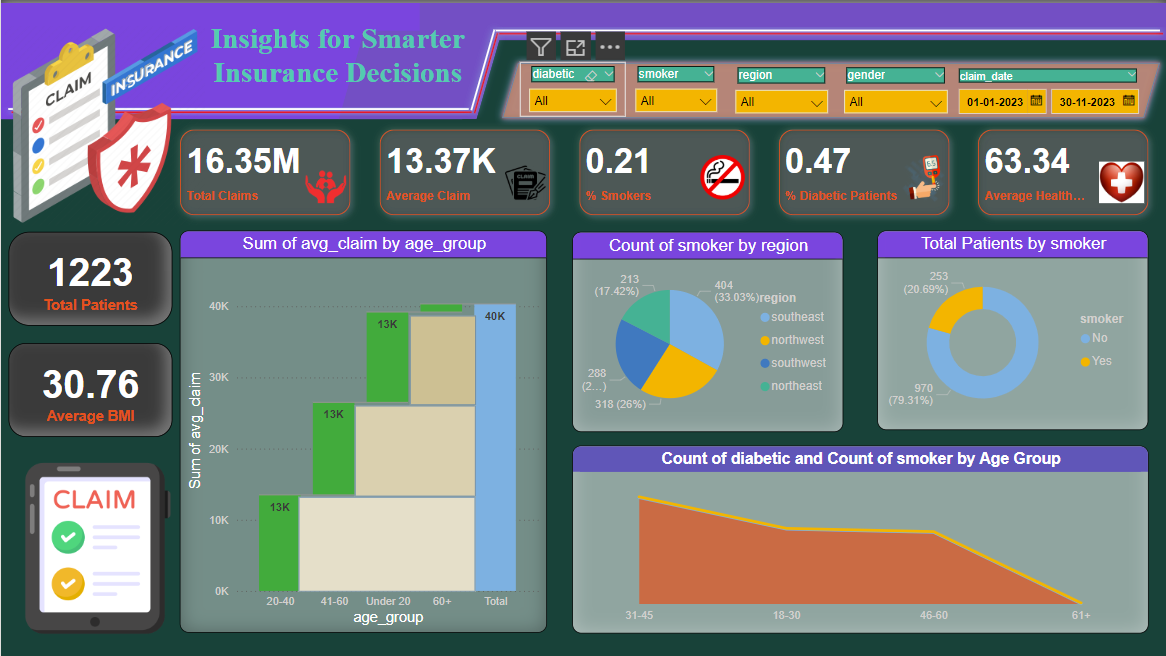

What the dashboard file says about the page in this screenshot:
{"tool":"powerbi","page":{"name":"Page 3","canvas":[1280,720],"ordinal":3},"visuals":[{"type":"cardVisual","fields":{"Data":["insurance_data.Total Claims","insurance_data.Average Claim","gender_smoker_health_summary.% Smokers","insurance_data.% Diabetic Patients","insurance_data.Average Health Risk"]},"box":[179.5,122.1,1100.5,129],"z":0},{"type":"shape","box":[542,57.6,738.3,76.8],"z":1000},{"type":"shape","box":[0,0,506.3,127.6],"z":2000},{"type":"shape","box":[459.7,0,820.6,41.2],"z":3000},{"type":"shape","box":[370.5,30.2,179.8,97.4],"z":4000},{"type":"shape","box":[0,108.4,521.4,15.1],"z":5000},{"type":"shape","box":[500.9,20.6,56.3,105.7],"z":6000},{"type":"shape","box":[534.9,20.6,745.1,19.2],"z":7000},{"type":"image","box":[0,6.9,229.2,255.2],"z":8000},{"type":"textbox","box":[179.8,15.1,380.1,93.3],"z":9000},{"type":"waterfallChart","fields":{"Y":["Sum(age_group_claims_summary.avg_claim)"],"Category":["age_group_claims_summary.age_group"]},"box":[196.2,249.7,403.4,441.9],"z":10000},{"type":"pieChart","fields":{"Category":["insurance_data.region"],"Y":["CountNonNull(insurance_data.smoker)"]},"box":[627.5,251.2,297.5,220],"z":11000},{"type":"donutChart","fields":{"Category":["smoker_analysis.smoker"],"Y":["insurance_data.Total Patients"]},"box":[961.9,249.7,297.8,219.6],"z":12000},{"type":"shape","box":[327.1,541.4,194.3,104.3],"z":13000},{"type":"shape","box":[388.6,441.4,132.9,100],"z":14000},{"type":"shape","box":[448.6,342.9,72.9,98.6],"z":15000},{"type":"card","fields":{"Values":["insurance_data.Total Patients"]},"box":[8.2,251.1,179.8,102.9],"z":16000},{"type":"card","fields":{"Values":["insurance_data.Average BMI"]},"box":[8.2,373.2,179.8,102.9],"z":17000},{"type":"stackedAreaChart","fields":{"Category":["insurance_data.Age Group"],"Y":["CountNonNull(insurance_data.diabetic)","CountNonNull(gender_smoker_health_summary.smoker)"]},"box":[627.5,486.2,632.5,206.2],"z":18000},{"type":"image","box":[0,475.7,212.7,244.3],"z":19000},{"type":"slicer","fields":{"Values":["insurance_data.diabetic"]},"box":[569.5,64.5,116.6,60.4],"z":20000},{"type":"slicer","fields":{"Values":["gender_smoker_health_summary.smoker"]},"box":[686.1,64.5,109.8,61.7],"z":21000},{"type":"slicer","fields":{"Values":["insurance_data.region"]},"box":[795.9,65.9,122.1,61.7],"z":22000},{"type":"slicer","fields":{"Values":["insurance_data.claim_date"]},"box":[1038.8,67.2,220.9,64.5],"z":23000},{"type":"slicer","fields":{"Values":["insurance_data.gender"]},"box":[915,66.2,133.8,61.2],"z":24000}]}

Visuals, with their boxes in screenshot pixels (x1, y1, x2, y2), scaled from the page's 1280x720 canvas onto the 1166x656 screenshot:
cardVisual - insurance_data.Total Claims x insurance_data.Average Claim: [164, 111, 1165, 229]
shape: [494, 52, 1165, 122]
shape: [0, 0, 461, 116]
shape: [419, 0, 1165, 38]
shape: [338, 28, 501, 116]
shape: [0, 99, 475, 113]
shape: [456, 19, 508, 115]
shape: [487, 19, 1165, 36]
image: [0, 6, 209, 239]
textbox: [164, 14, 510, 99]
waterfallChart - Sum(age_group_claims_summary.avg_claim) x age_group_claims_summary.age_group: [179, 228, 546, 630]
pieChart - insurance_data.region x CountNonNull(insurance_data.smoker): [572, 229, 843, 429]
donutChart - smoker_analysis.smoker x insurance_data.Total Patients: [876, 228, 1148, 428]
shape: [298, 493, 475, 588]
shape: [354, 402, 475, 493]
shape: [409, 312, 475, 402]
card - insurance_data.Total Patients: [7, 229, 171, 323]
card - insurance_data.Average BMI: [7, 340, 171, 434]
stackedAreaChart - insurance_data.Age Group x CountNonNull(insurance_data.diabetic): [572, 443, 1148, 631]
image: [0, 433, 194, 655]
slicer - insurance_data.diabetic: [519, 59, 625, 114]
slicer - gender_smoker_health_summary.smoker: [625, 59, 725, 115]
slicer - insurance_data.region: [725, 60, 836, 116]
slicer - insurance_data.claim_date: [946, 61, 1148, 120]
slicer - insurance_data.gender: [834, 60, 955, 116]
